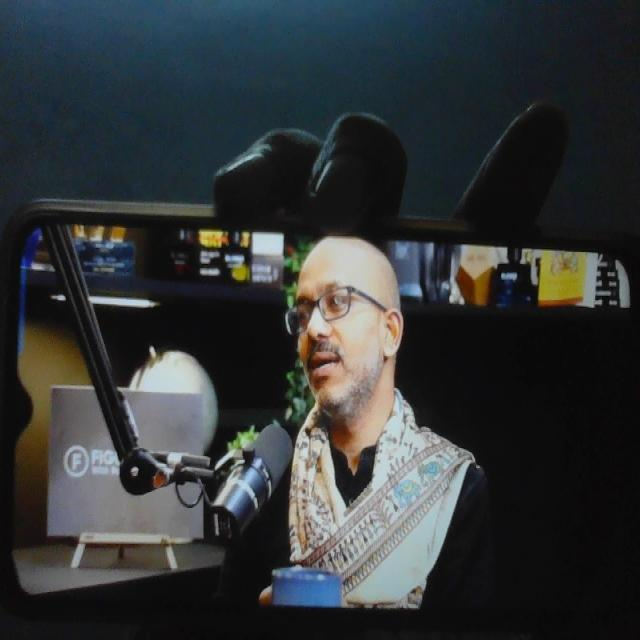fake: (277, 180, 410, 431)
